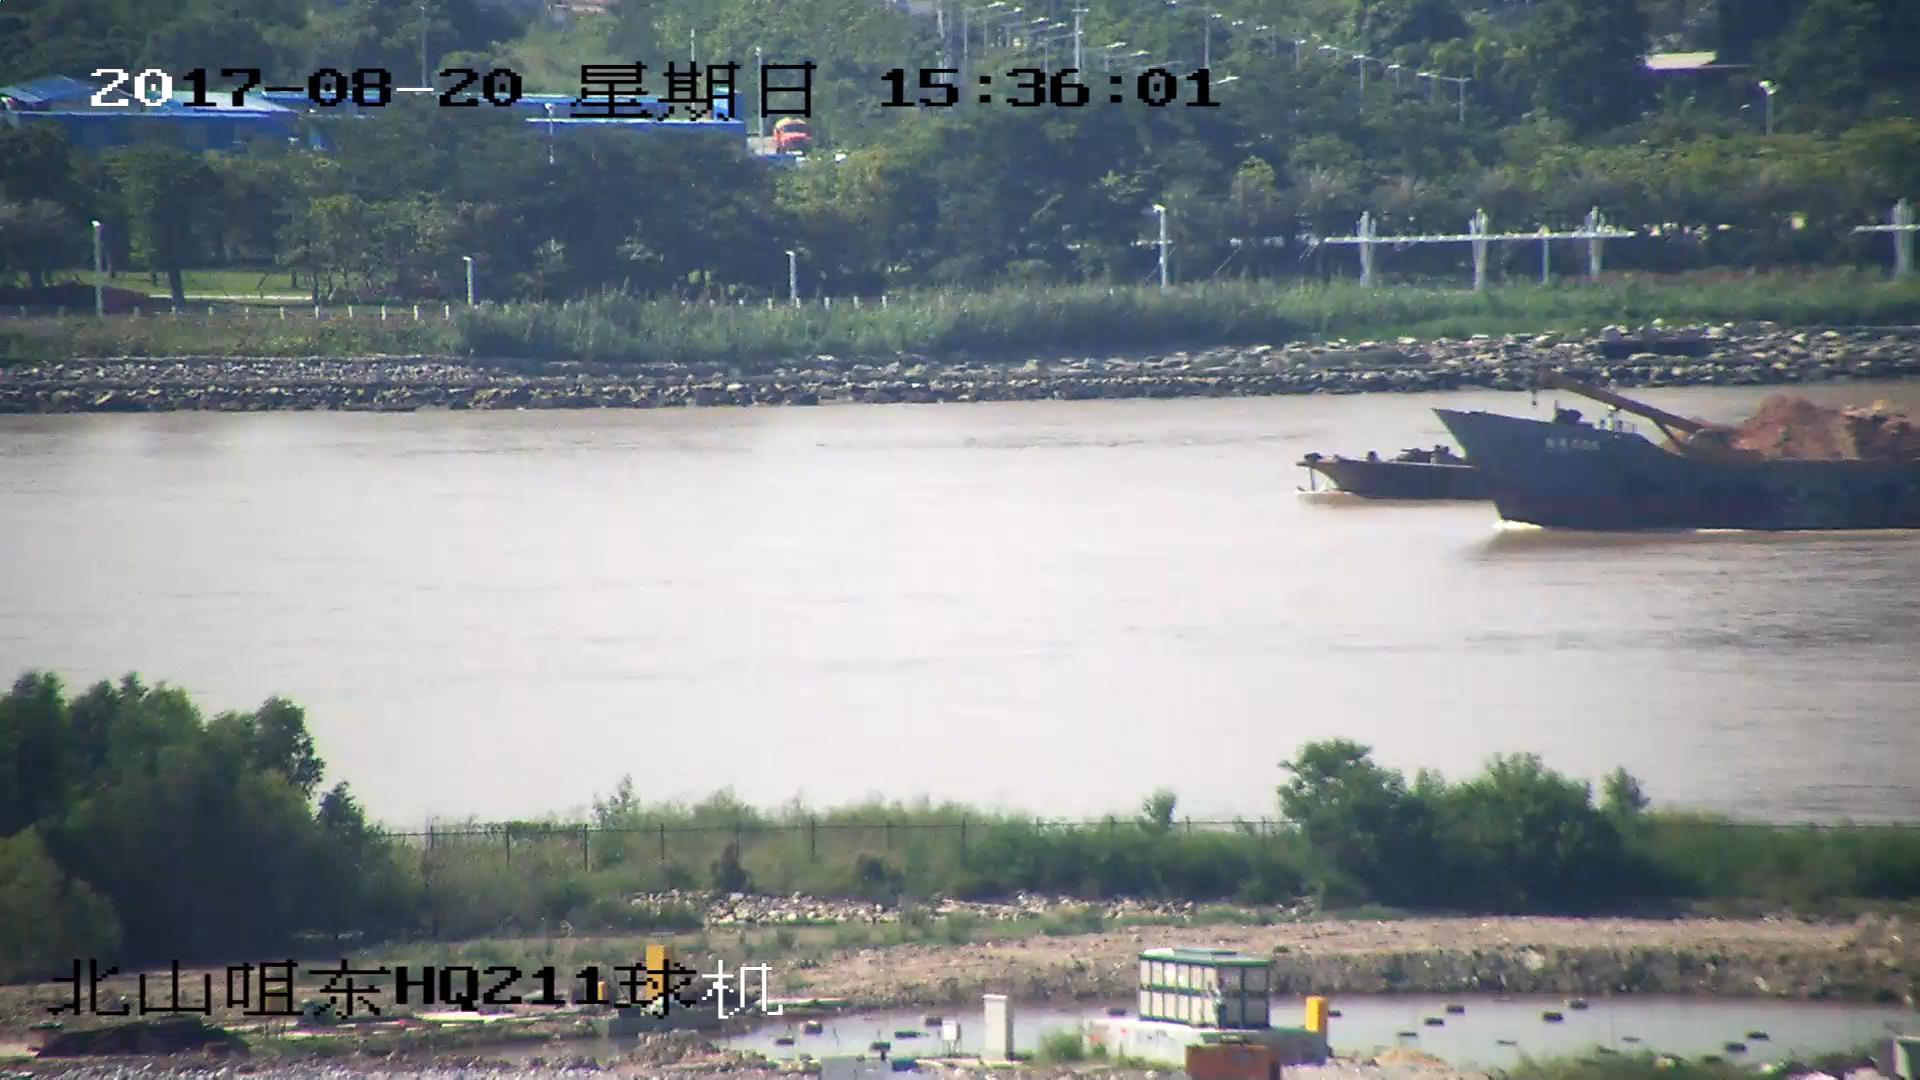Ship: (1302, 396, 1920, 504), (1439, 398, 1920, 530)
